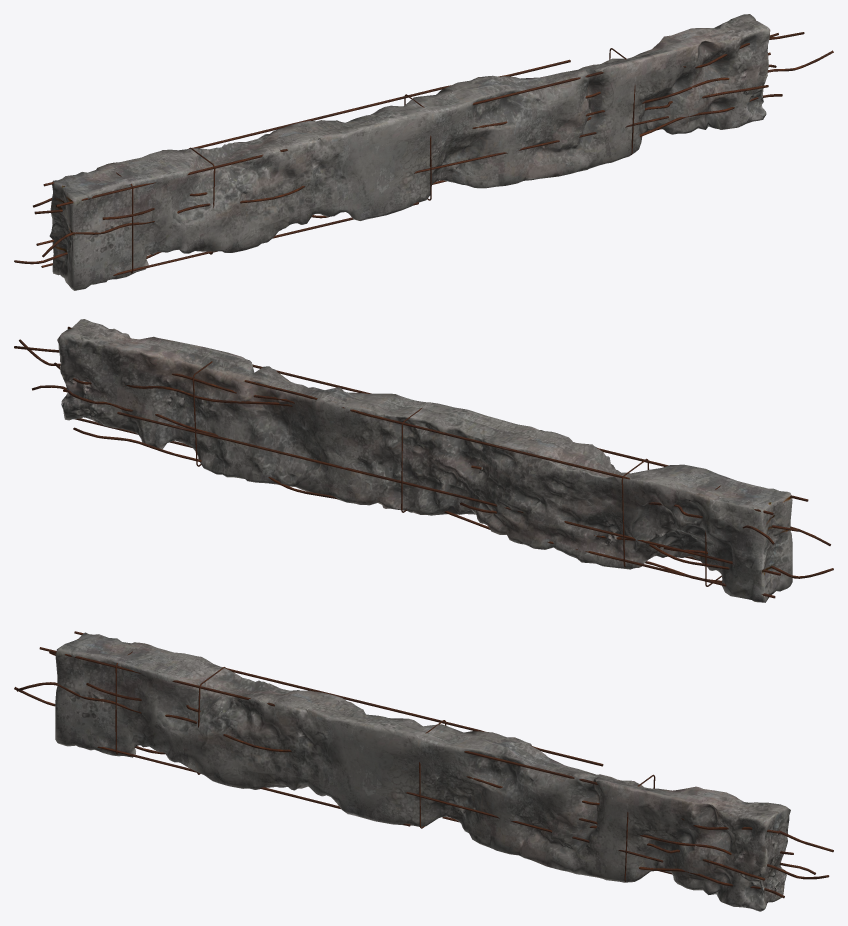
File: concrete_joist_2.gltf
The picture shows the model from 3 angles, top to bottom: view 1: azimuth 30°, elevation 25°; view 2: azimuth 150°, elevation 25°; view 3: azimuth 330°, elevation 25°; orthographic projection.
Parts seen in each view (by area): view 1: concrete_joist_2; view 2: concrete_joist_2; view 3: concrete_joist_2.
Part boxes in pixels (x1,y1,x2,y2): concrete_joist_2: (14,14,833,290); concrete_joist_2: (14,319,833,602); concrete_joist_2: (14,631,833,911).
Bounding box in the file's own units: 5.6 × 0.6646 × 0.4083.
2 materials, 2 textured.
